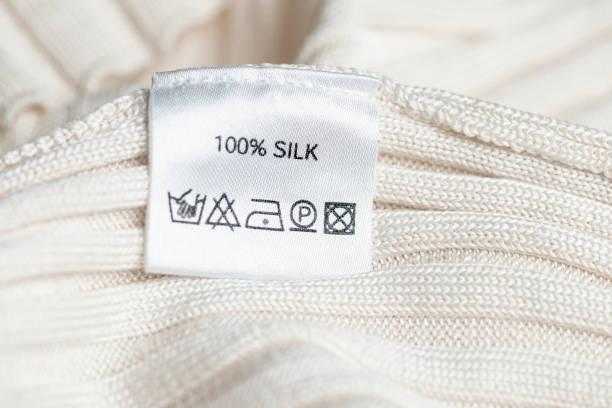DN_bleach: (206, 191, 243, 232)
DN_tumble_dry: (322, 198, 359, 239)
dry_clean_any_solvent_except_trichloroethylene: (289, 198, 319, 234)
hand_wash: (165, 187, 208, 227)
iron_low: (244, 191, 288, 235)
